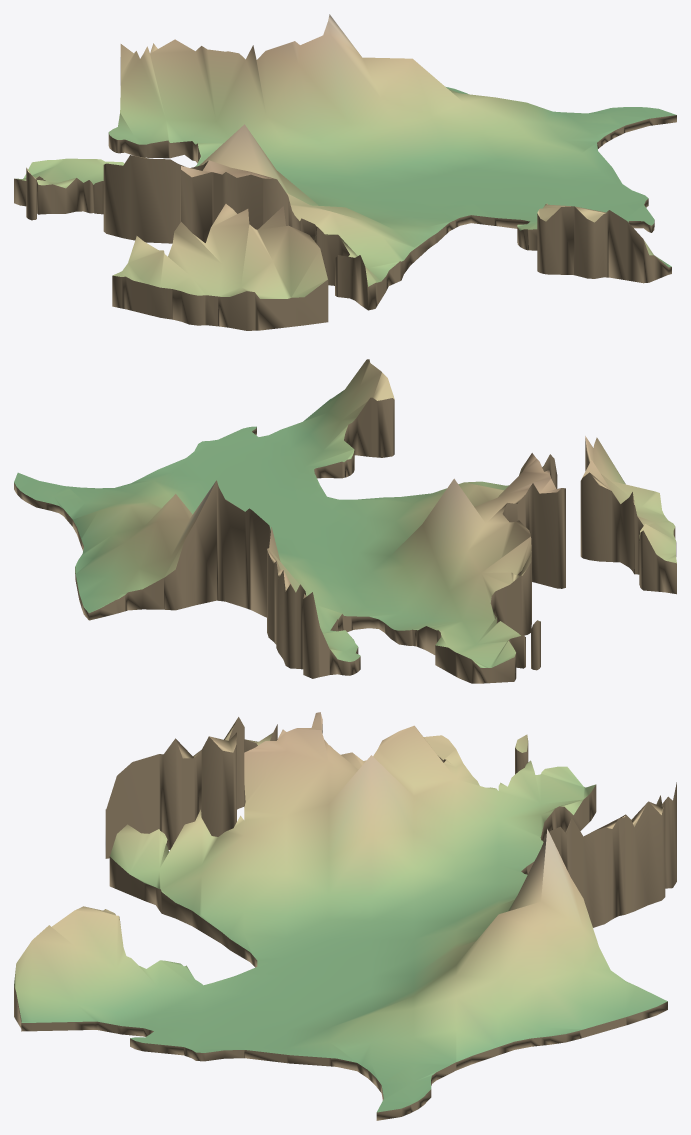
File: AZE.glb
3 views of the same model, one above another, from view 1: azimuth 30°, elevation 25°; view 2: azimuth 150°, elevation 25°; view 3: azimuth 270°, elevation 25° (orthographic). The views are drawn at different scales.
Parts seen in each view (by area): view 1: AZE; view 2: AZE; view 3: AZE.
Boxes of the visible parts, <box> form: AZE: <box>14,14,676,330</box>; AZE: <box>14,359,676,683</box>; AZE: <box>14,712,676,1120</box>.
Bounding box in the file's own units: 1.79 × 0.338 × 1.46.
